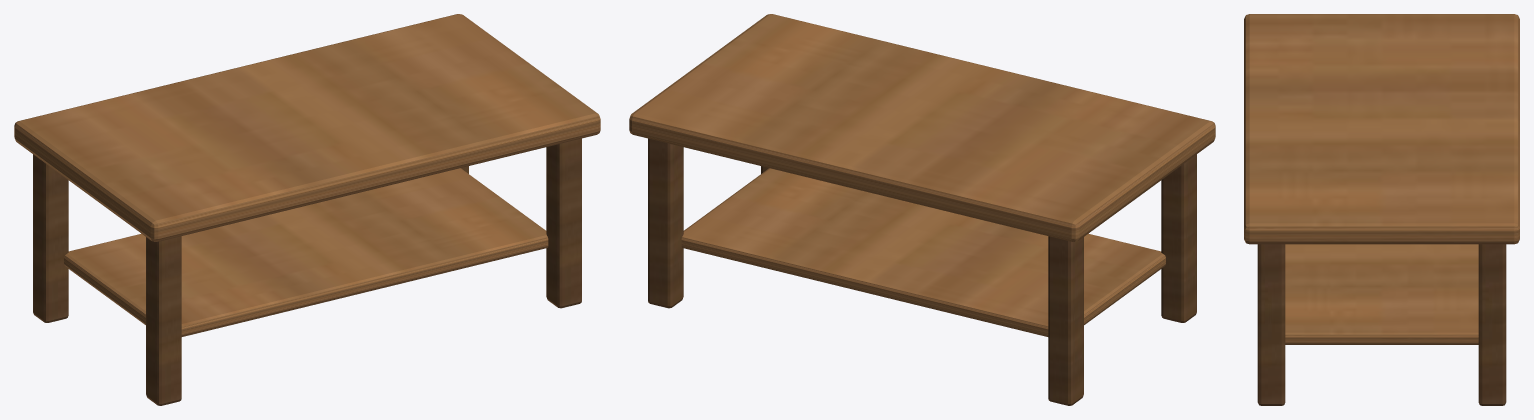
File: coffee_table.glb
3 views of the same model, side by side, from view 1: azimuth 30°, elevation 25°; view 2: azimuth 150°, elevation 25°; view 3: azimuth 270°, elevation 25° (orthographic). The views are drawn at different scales.
Visible parts, largest first — view 1: top, shelf, leg-11.001, leg11.001, leg-1-1.001; view 2: top, shelf, leg-1-1.001, leg1-1.001, leg-11.001; view 3: top, shelf, leg1-1.001, leg11.001.
Boxes of the visible parts, <box> form: top: <box>14,14,600,241</box>; shelf: <box>64,168,548,336</box>; leg-11.001: <box>146,236,181,405</box>; leg11.001: <box>546,138,581,308</box>; leg-1-1.001: <box>33,154,68,322</box>; top: <box>629,14,1215,241</box>; shelf: <box>681,168,1165,336</box>; leg-1-1.001: <box>1048,236,1083,405</box>; leg1-1.001: <box>648,138,683,308</box>; leg-11.001: <box>1161,154,1196,322</box>; top: <box>1244,14,1519,244</box>; shelf: <box>1285,244,1478,344</box>; leg1-1.001: <box>1478,244,1506,405</box>; leg11.001: <box>1257,244,1285,405</box>.
Size of the model in its own units: 1.1 by 0.45 by 0.6.
Materials: 2 (2 with a texture image).
